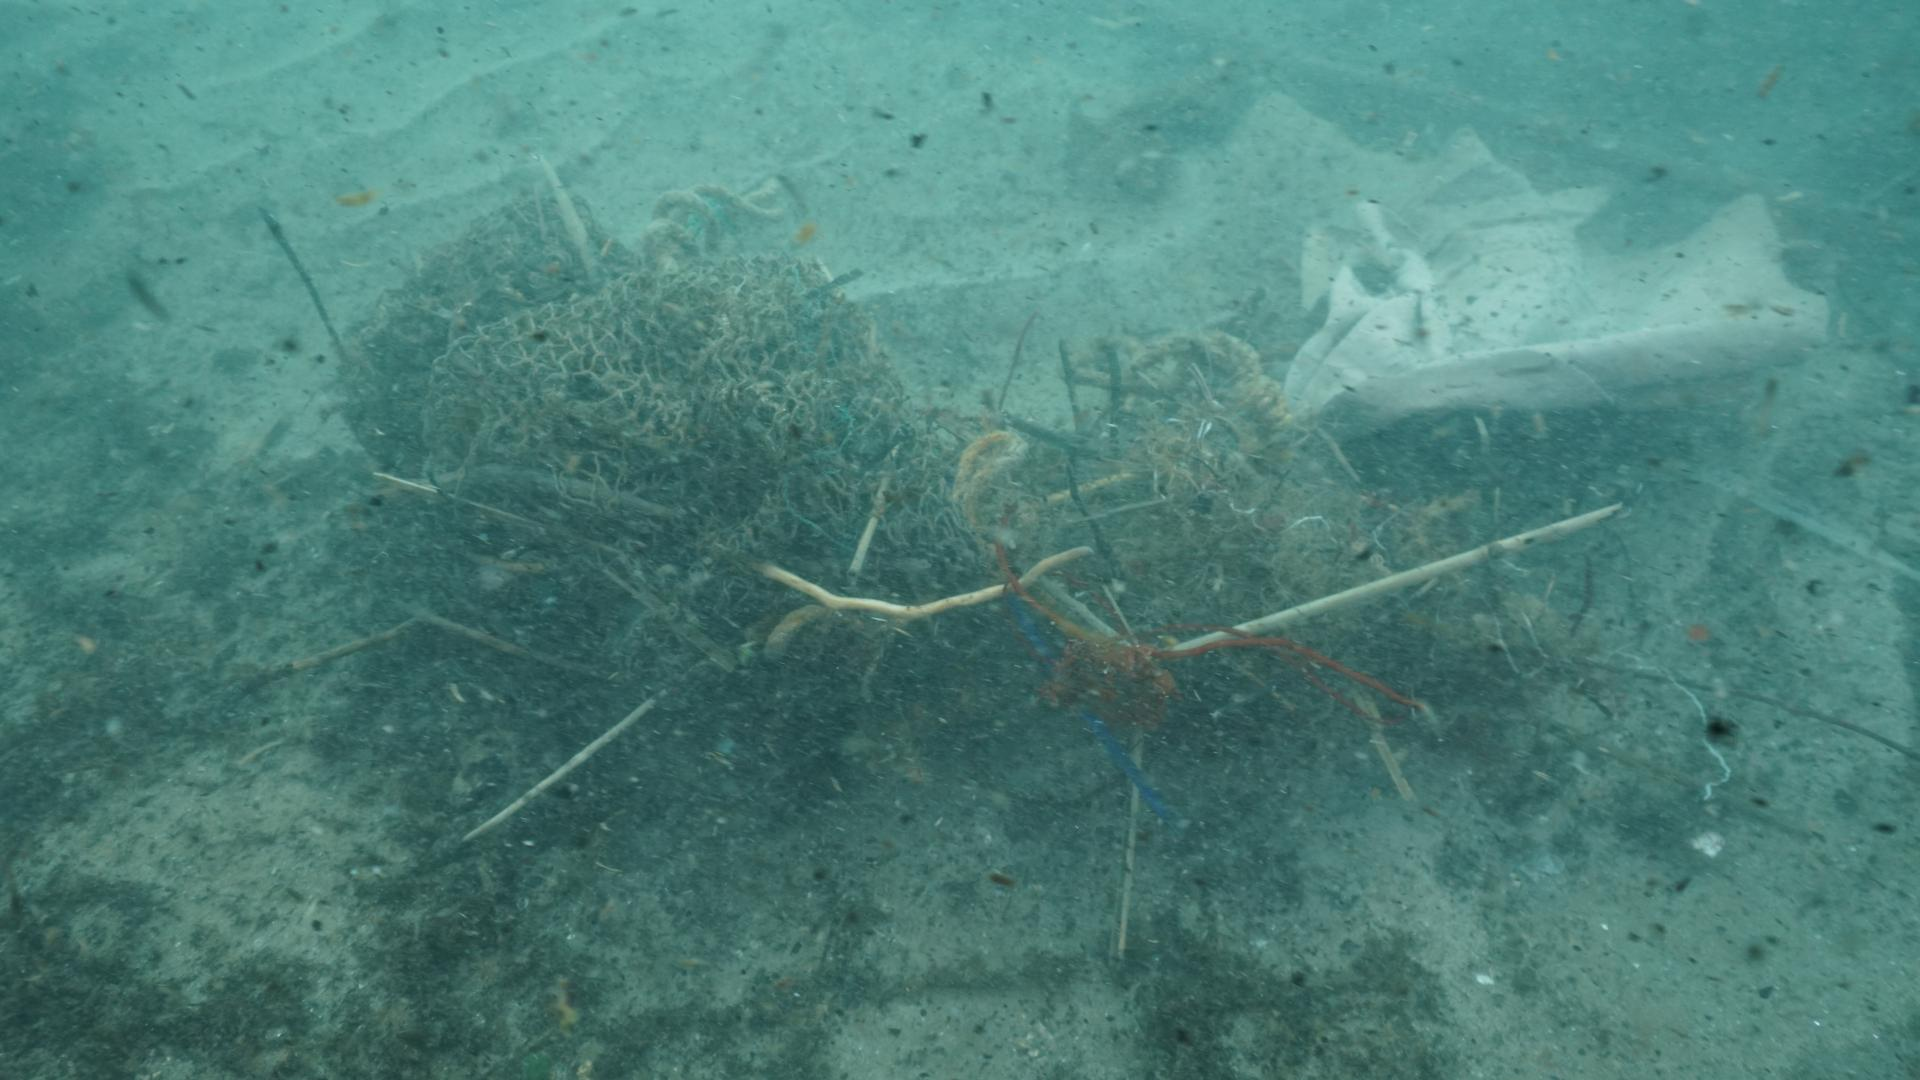fish net: (338, 178, 977, 572)
